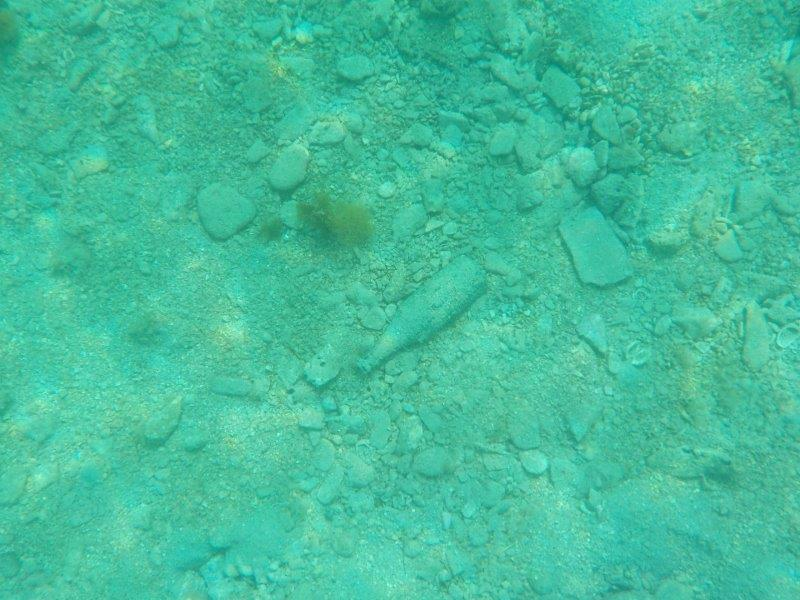bottle: (350, 252, 489, 377)
